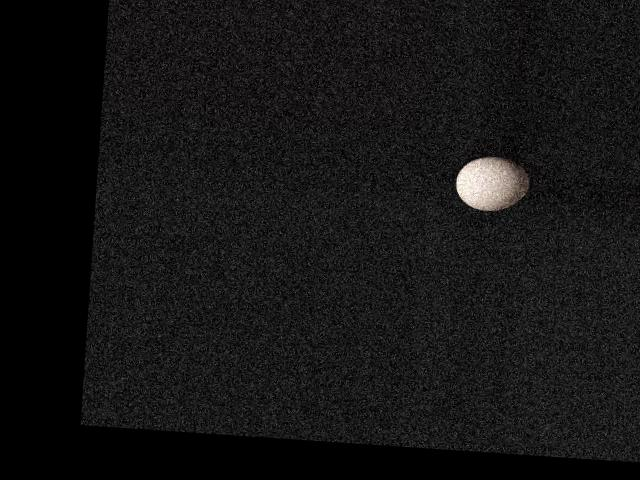egg: (453, 154, 530, 212)
